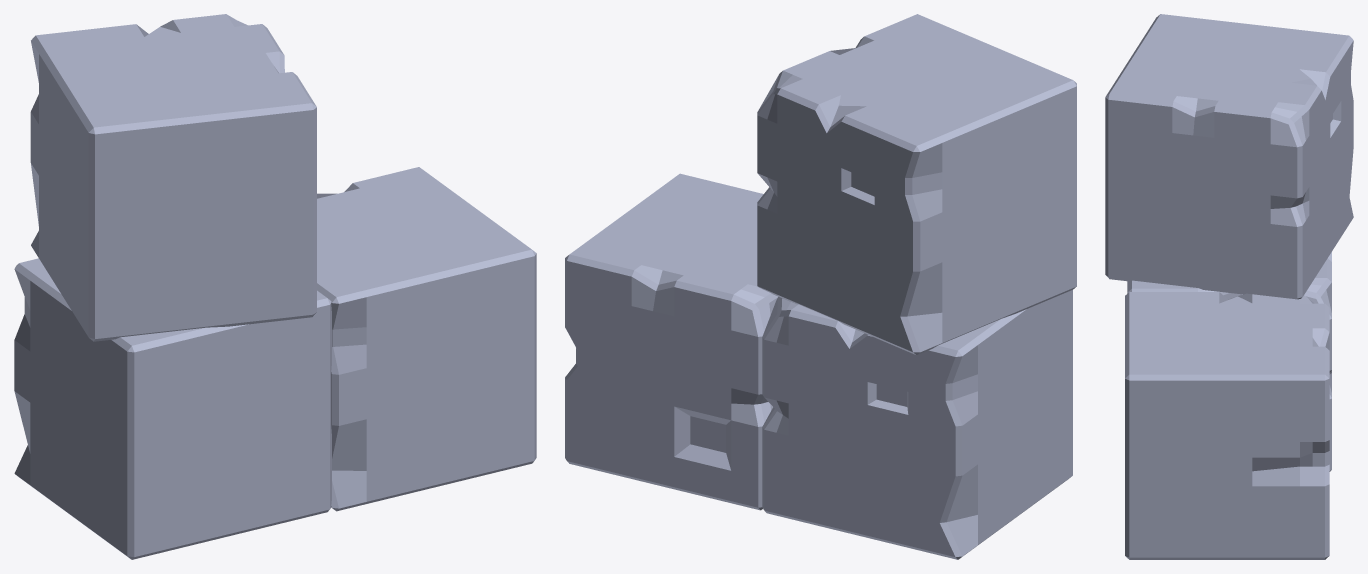
File: Stone_8.fbx
3 renders of one model, left to right at view 1: azimuth 30°, elevation 25°; view 2: azimuth 150°, elevation 25°; view 3: azimuth 270°, elevation 25°, orthographic. The views are drawn at different scales.
Parts seen in each view (by area): view 1: Stone_8; view 2: Stone_8; view 3: Stone_8.
Part boxes in pixels (bbox=[...]): Stone_8: bbox=[14, 14, 536, 559]; Stone_8: bbox=[565, 14, 1076, 559]; Stone_8: bbox=[1105, 14, 1353, 559].
Size of the model in its own units: 213 by 202 by 124.
